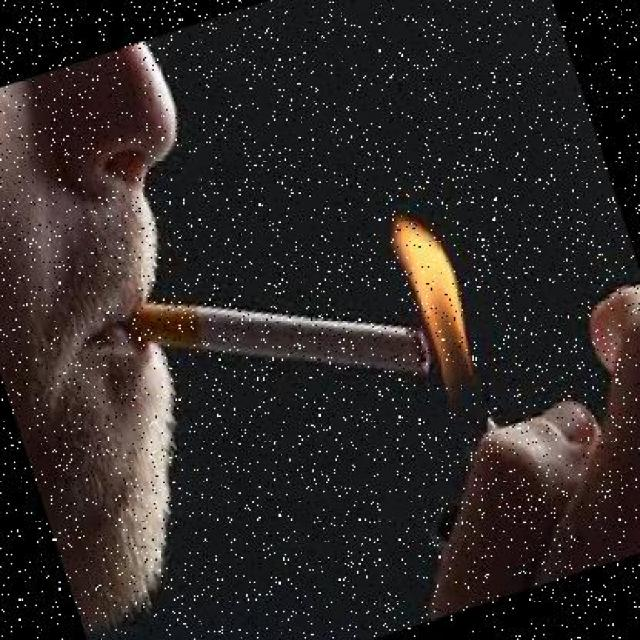fire: (354, 191, 504, 435)
